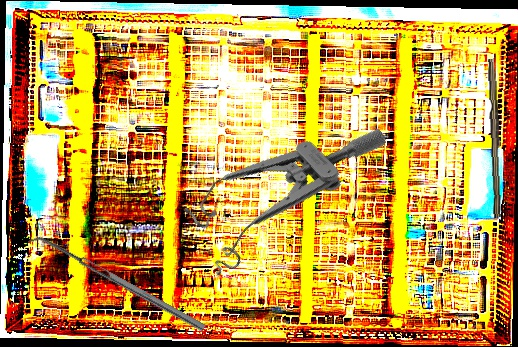Scalpel Handle: (485, 58, 506, 218)
Spatula Surgical: (27, 229, 206, 339)
Speculum: (168, 73, 389, 291)
